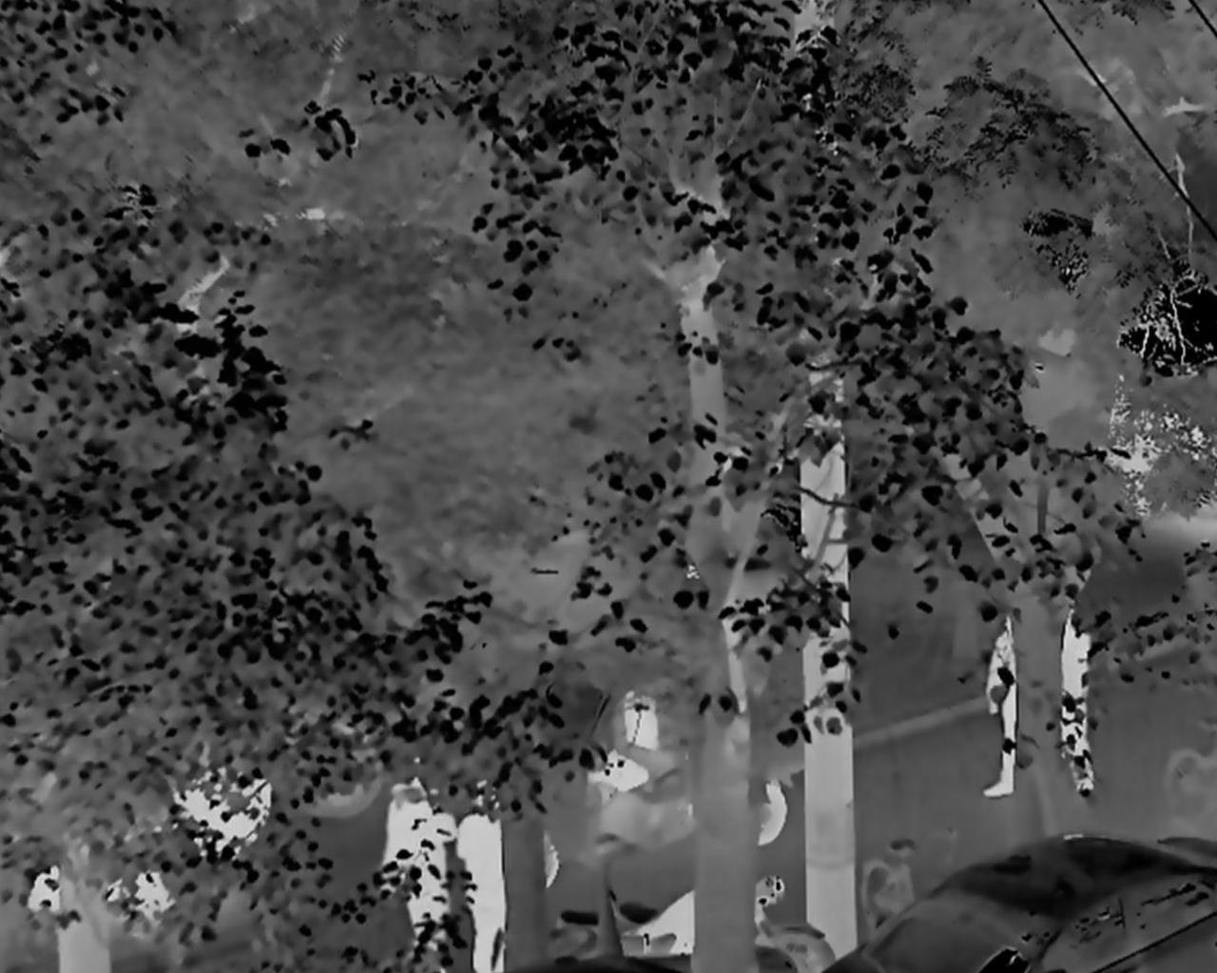person: (382, 772, 455, 952), (456, 778, 506, 973), (1060, 605, 1096, 793), (984, 613, 1017, 799)
